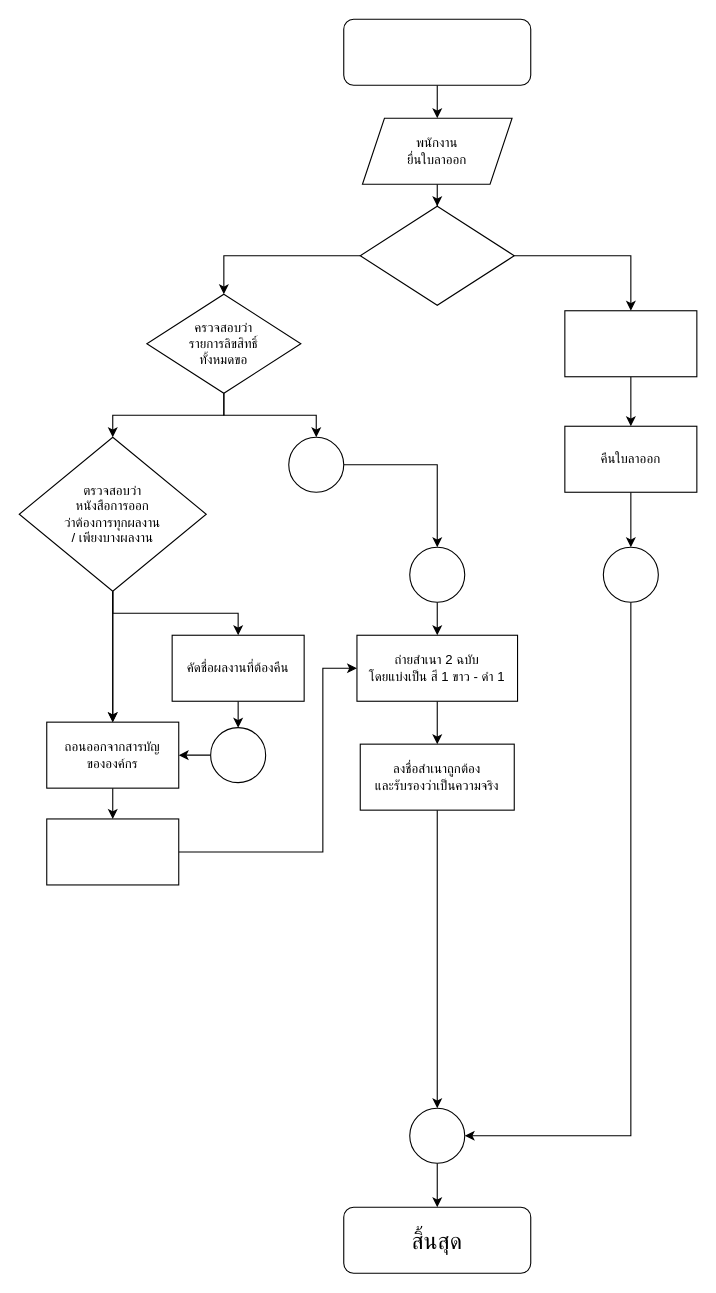
Some shapes in this 716 by 1293 pixel diagram are drawn without their labels. Each missing label, with the box of its shape:
ตรวจสอบว่า ครบสัญญาหรือไม่: (359, 205, 514, 305)
ส่งผลงานกลับคืน ภายใน 7 - 14 วัน: (46, 818, 179, 885)
เริ่มต้น: (343, 18, 531, 85)
แจ้งพนักงานว่าไม่สามารถลาออกได้: (564, 310, 697, 377)
